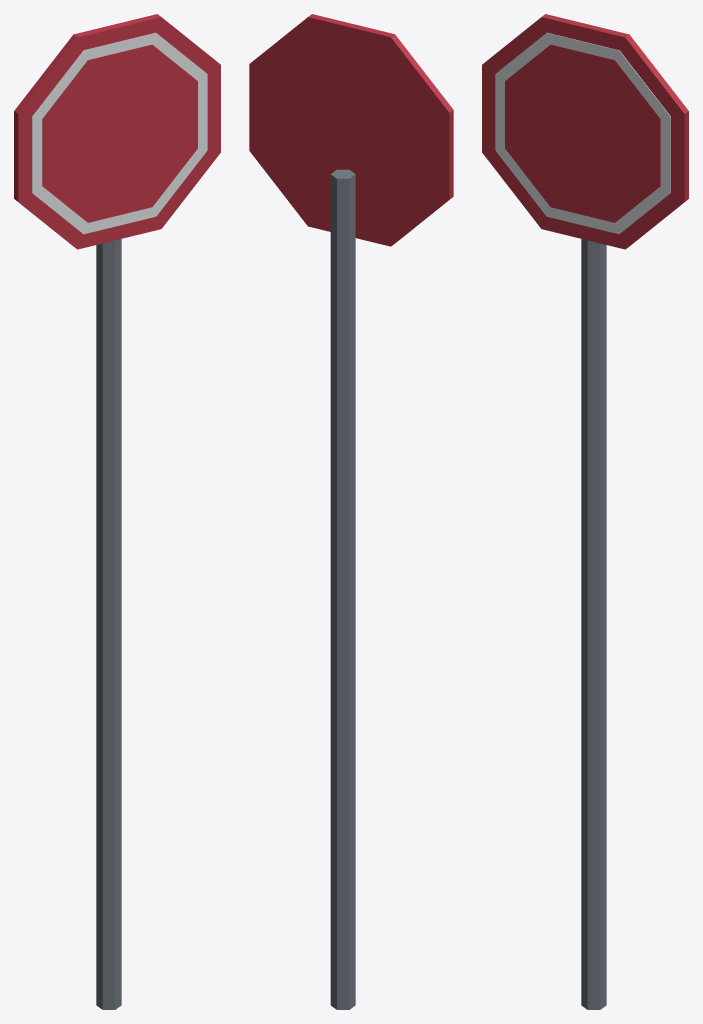
Rendered from stop_sign.glb.
3 renders of one model, left to right at view 1: azimuth 30°, elevation 25°; view 2: azimuth 150°, elevation 25°; view 3: azimuth 330°, elevation 25°, orthographic.
Visible parts, largest first — view 1: stop_sign; view 2: stop_sign; view 3: stop_sign.
Boxes of the visible parts, <box> form: stop_sign: <box>14,14,220,1009</box>; stop_sign: <box>249,14,453,1009</box>; stop_sign: <box>482,14,688,1009</box>.
Size of the model in its own units: 0.5543 by 2.58 by 0.083.
